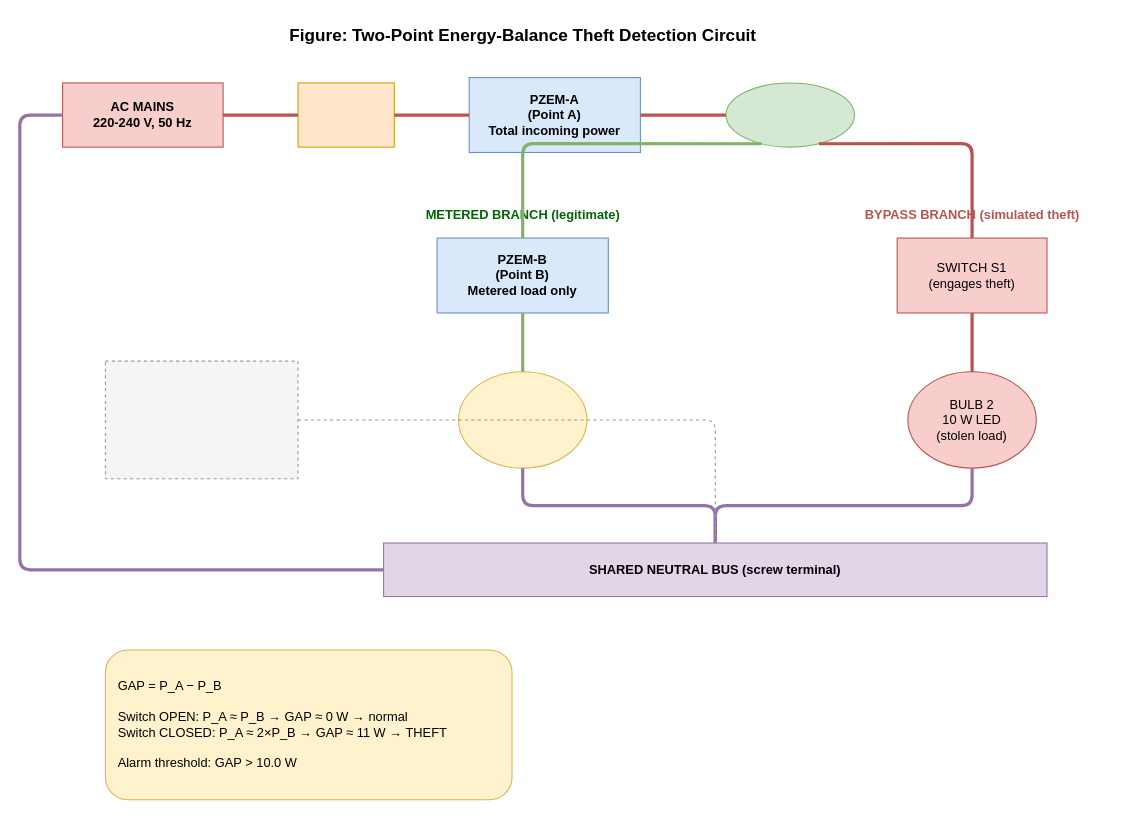
This 1141x819 diagram has some shape labels left out. Each missing label, with the centre of its shape:
"BULB 1 10 W LED (normal load)" belongs at (522,419).
"FUSE 4 A" belongs at (345,114).
"Node X (line splits here)" belongs at (789,114).
"PZEM-C (Point C) BYPASSED on mains side — reads 0.00 W —" belongs at (201,419).
